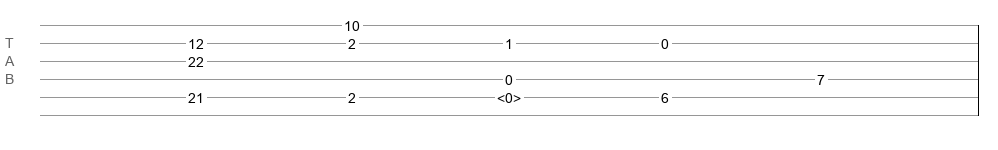0: (505, 72, 513, 82), (661, 36, 669, 46)
1: (505, 36, 513, 46)
10: (344, 18, 360, 28)
12: (188, 36, 204, 46)
2: (348, 90, 356, 100), (348, 36, 356, 46)
21: (188, 90, 204, 100)
22: (188, 54, 204, 64)
6: (661, 90, 669, 100)
7: (817, 72, 825, 82)
harmonic: (497, 90, 521, 100)
